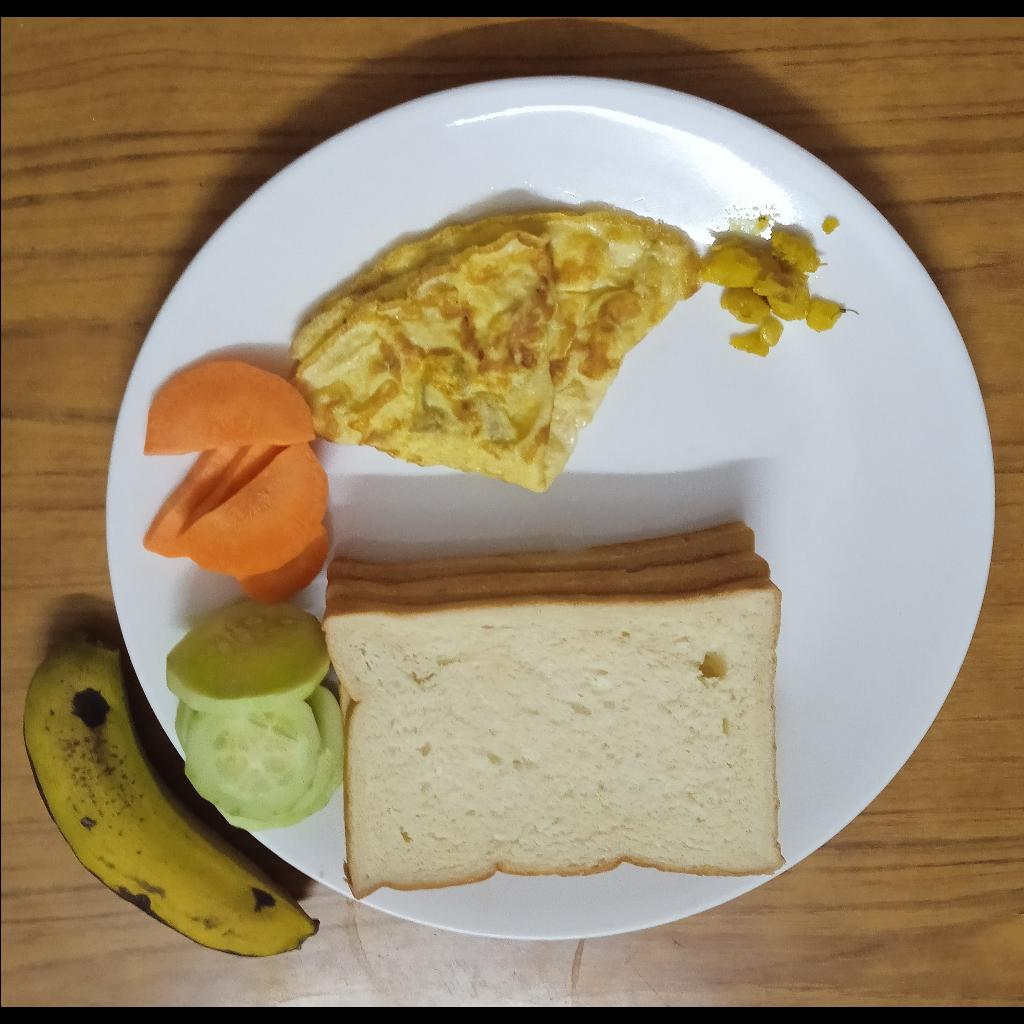banana: (22, 634, 319, 957)
bread: (321, 519, 786, 901)
carrot: (142, 361, 328, 604)
cucumber: (166, 601, 342, 833)
egg-poached: (286, 208, 703, 497)
kumra-vaji: (702, 229, 843, 356)
